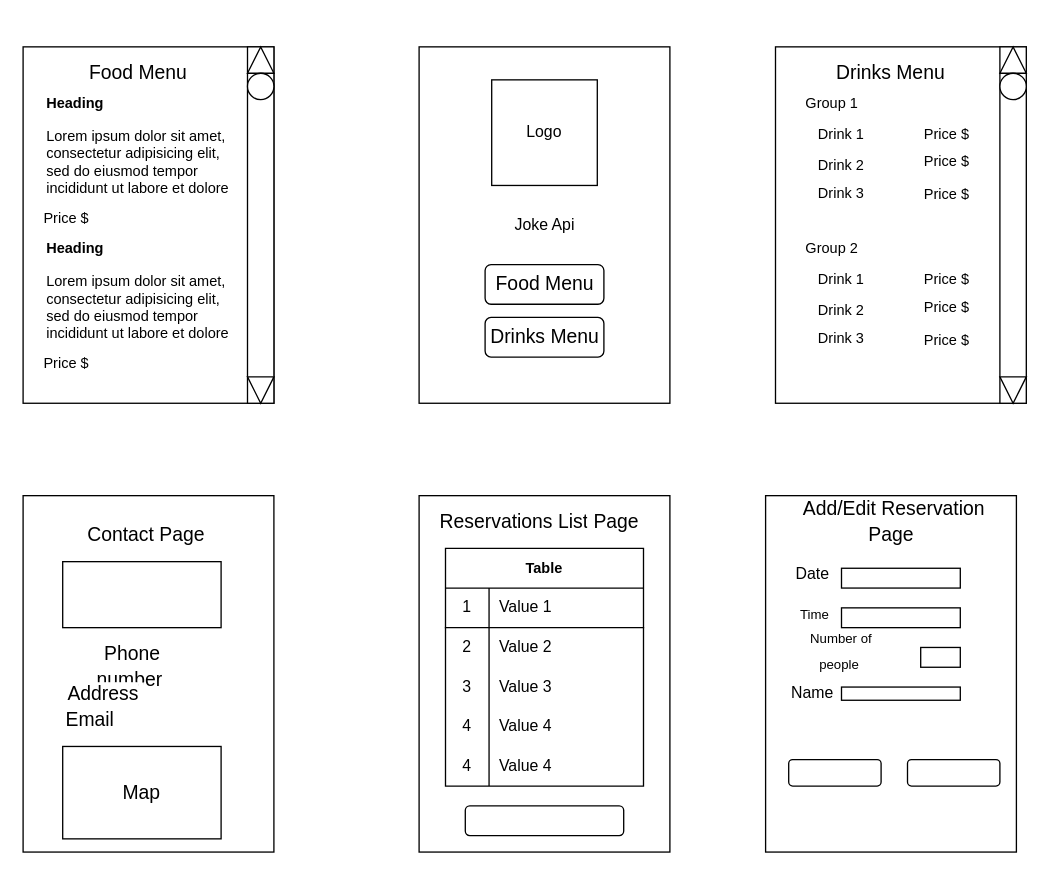
This 1049x891 diagram has some shape labels left out. The shapes that lost their labels are listed below. From the top down, each one's centre as x and y in pixels, then its label:
pixel 141 594: Image s of the pub
pixel 544 820: Add reservation
